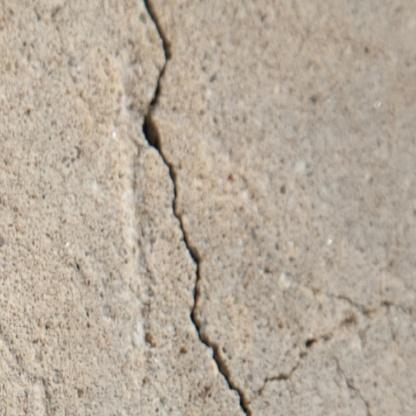Cracks: (137, 0, 258, 416), (342, 375, 389, 416), (256, 374, 293, 398)
